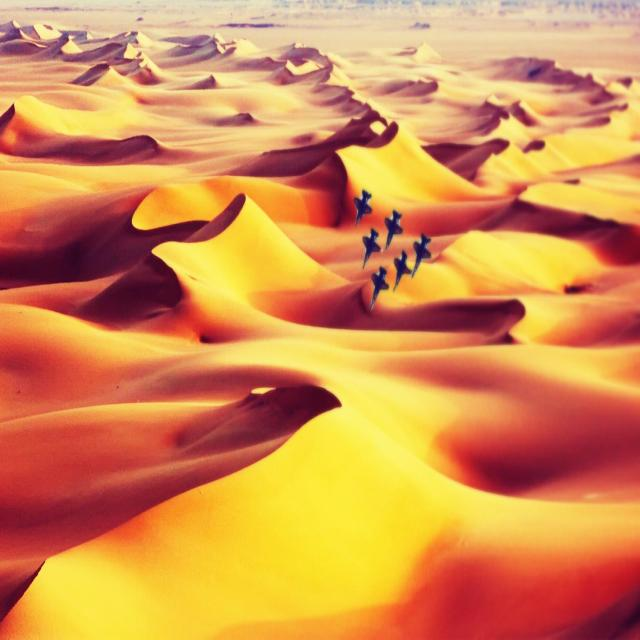airplane: (411, 225, 431, 278), (370, 262, 390, 311), (392, 247, 412, 290), (360, 228, 382, 266), (353, 186, 373, 227), (384, 206, 403, 249)
